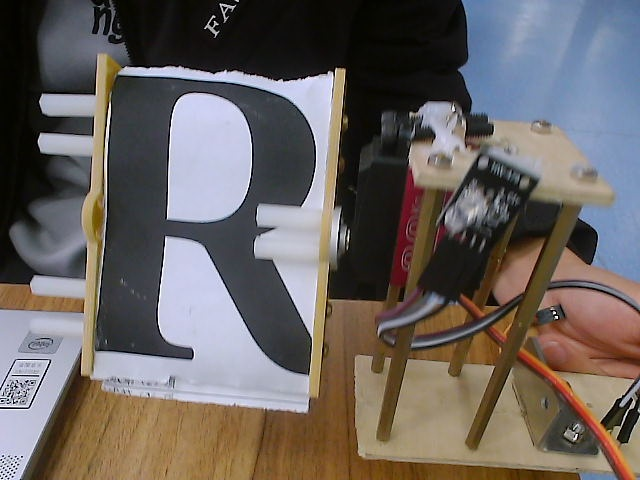R: (24, 36, 385, 429)
